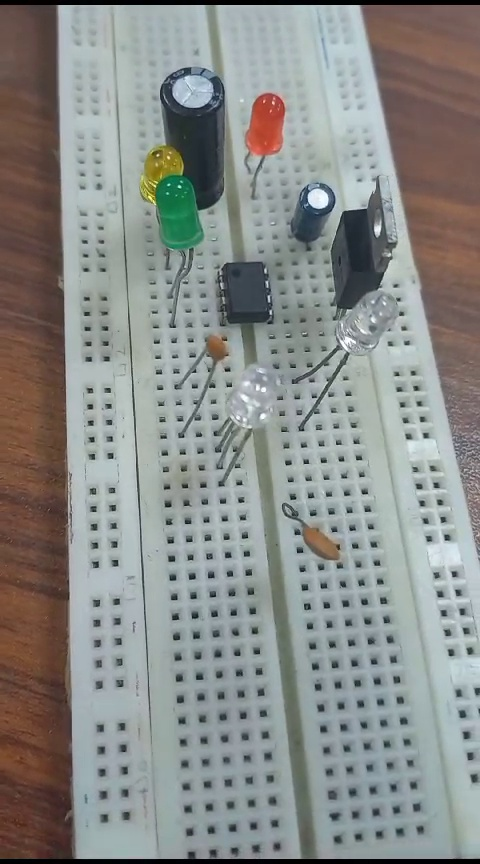IC: (216, 261, 295, 331)
LED: (335, 297, 380, 433), (154, 180, 196, 319), (231, 361, 267, 496), (248, 93, 283, 204), (142, 143, 186, 193)
capacitor: (155, 69, 231, 161), (302, 187, 326, 244)
ceramic capacitor: (279, 503, 351, 577), (208, 325, 231, 449)
voltage regulator: (339, 172, 406, 288)
